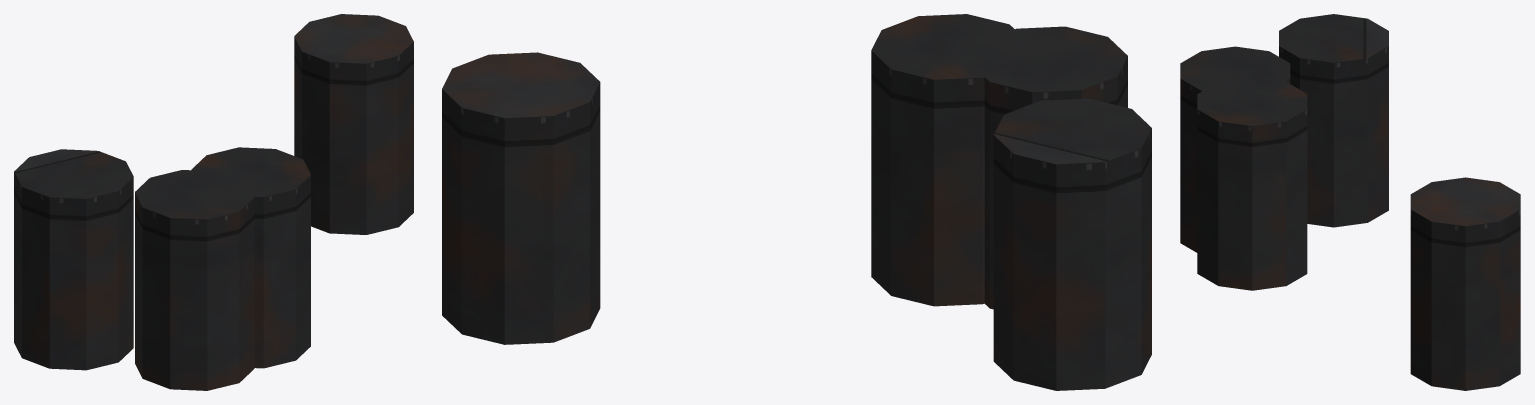
Rendered from A_drums.glb.
3 renders of one model, left to right at view 1: azimuth 30°, elevation 25°; view 2: azimuth 150°, elevation 25°; view 3: azimuth 270°, elevation 25°, orthographic. The views are drawn at different scales.
Visible parts, largest first — view 1: A_drums; view 2: A_drums; view 3: A_drums.
Part boxes in pixels (<box>): A_drums: <box>14,14,413,390</box>; A_drums: <box>442,14,1151,390</box>; A_drums: <box>1180,14,1520,390</box>.
Bounding box in the file's own units: 2.43 × 0.88 × 1.65.
1 material, 1 textured.
